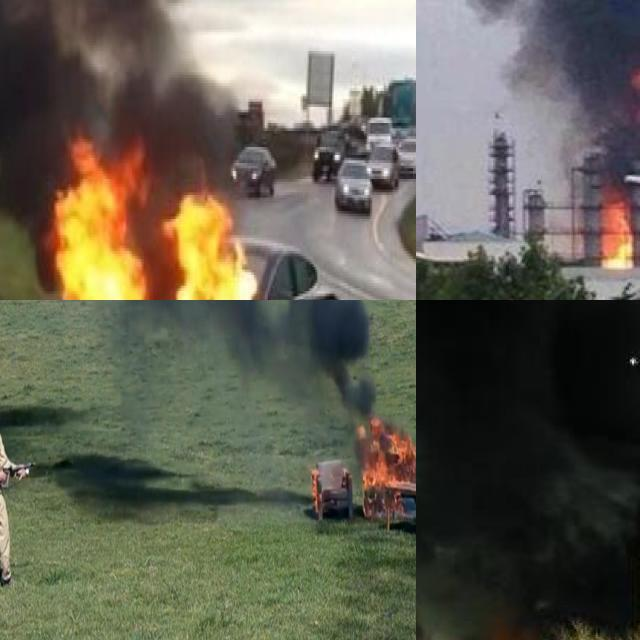fire: (46, 136, 264, 300), (357, 416, 416, 520), (592, 187, 640, 266), (310, 466, 322, 516)
smoke: (416, 300, 640, 640), (0, 0, 236, 154), (97, 300, 376, 429), (470, 0, 640, 189)
